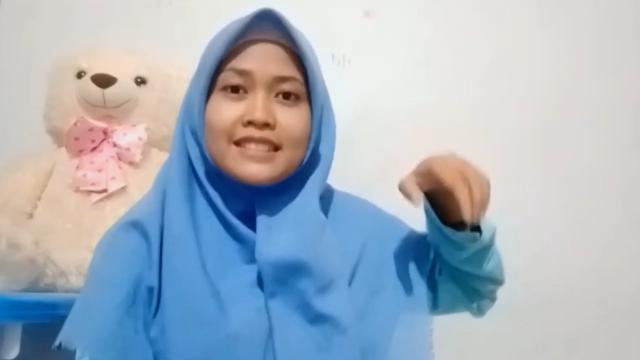Q: (396, 152, 496, 226)
